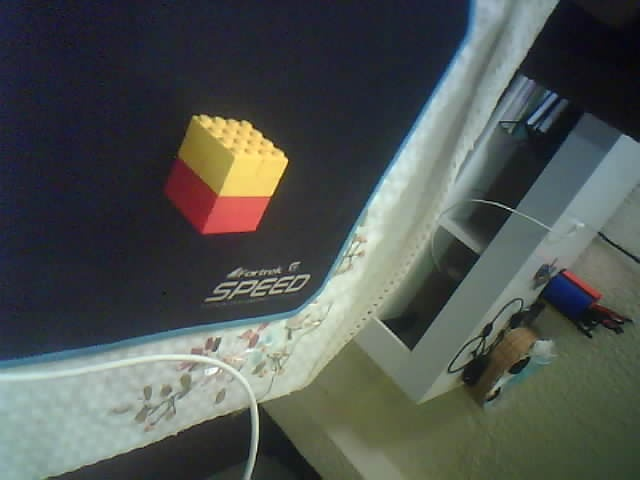lego: (162, 113, 289, 237)
